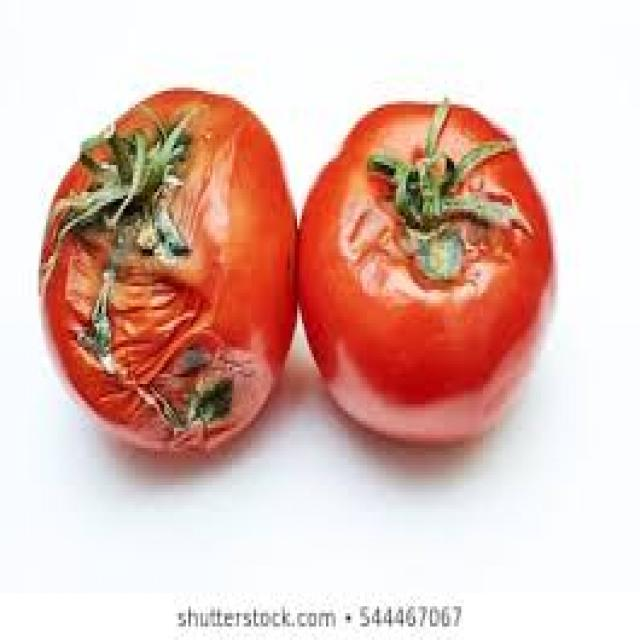organic waste: (39, 84, 297, 458), (297, 94, 553, 438)
